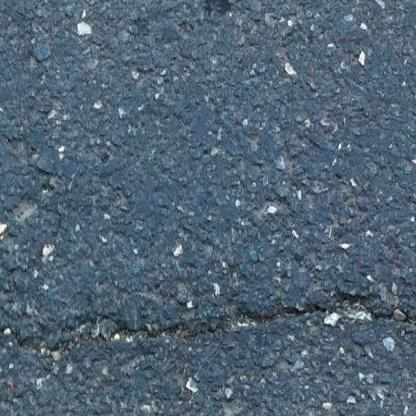Cracks: (106, 292, 416, 345), (0, 314, 10, 336)
